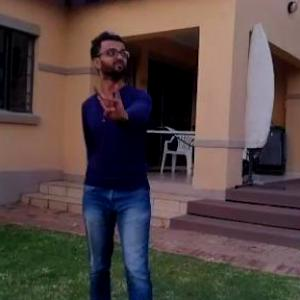takeoff-hand: (99, 77, 128, 120)
